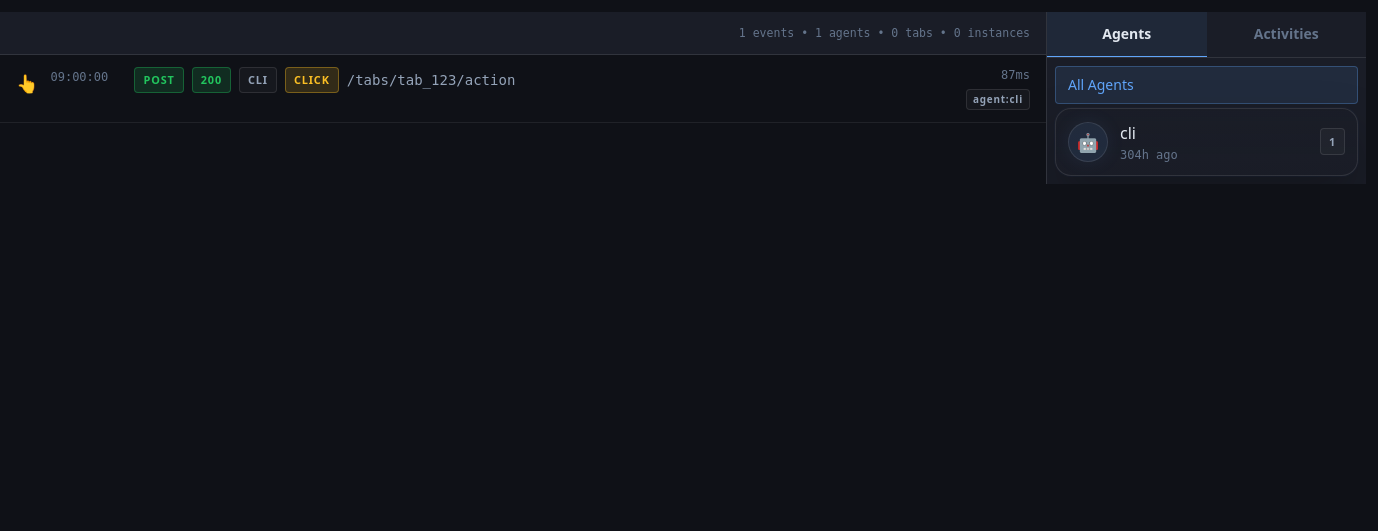
it: AgentsPage › switches to Activities and shows the filter stack
Click the button "Activities" at x=1286, y=34, box [1206,12,1366,57]
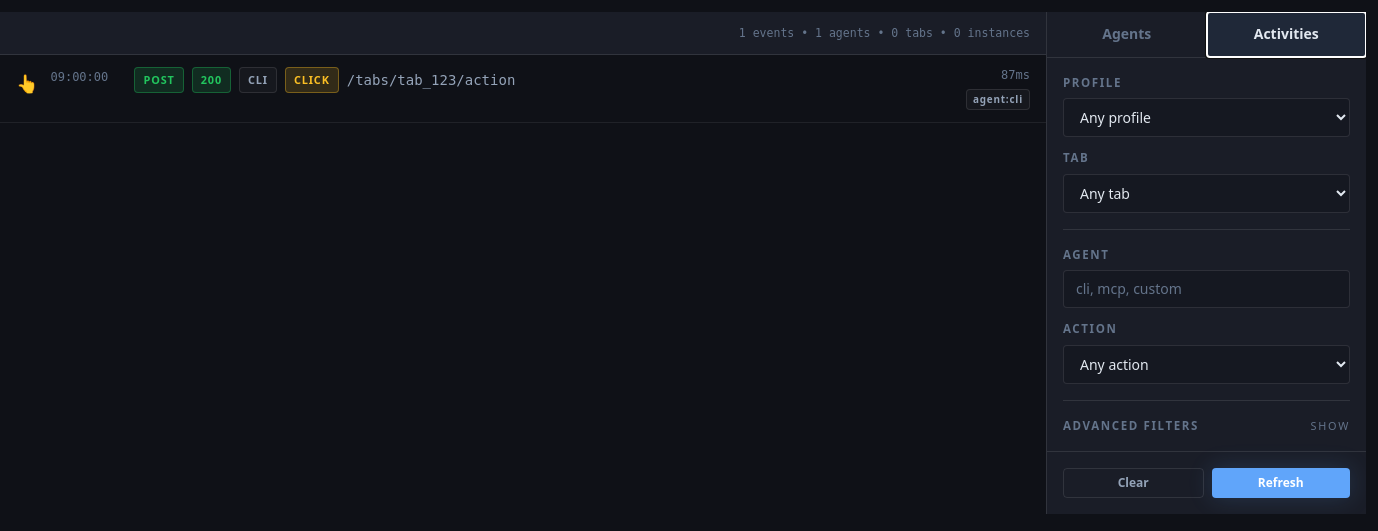
Check: the dropdown labelled "Profile" is shown, box [1063,98,1350,137]
Check: the field labelled "Agent" is shown, box [1063,270,1350,308]
